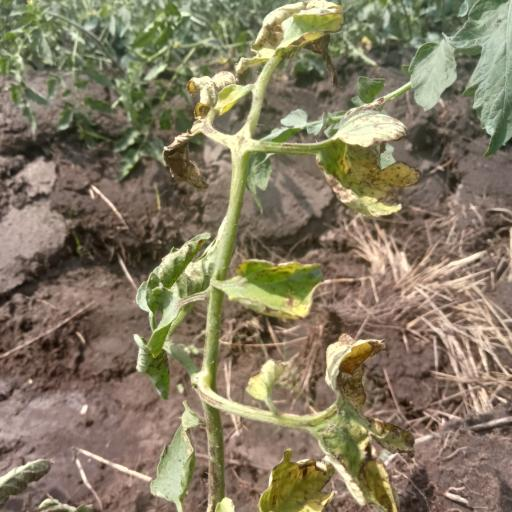Tomato_Brown_Spots: (292, 335, 444, 512), (311, 114, 434, 217), (220, 255, 352, 319)
